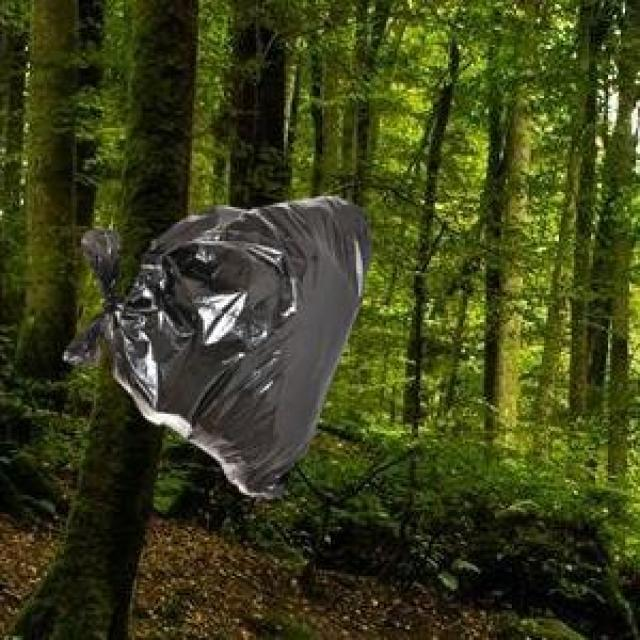Vinyl: (68, 196, 370, 498)
